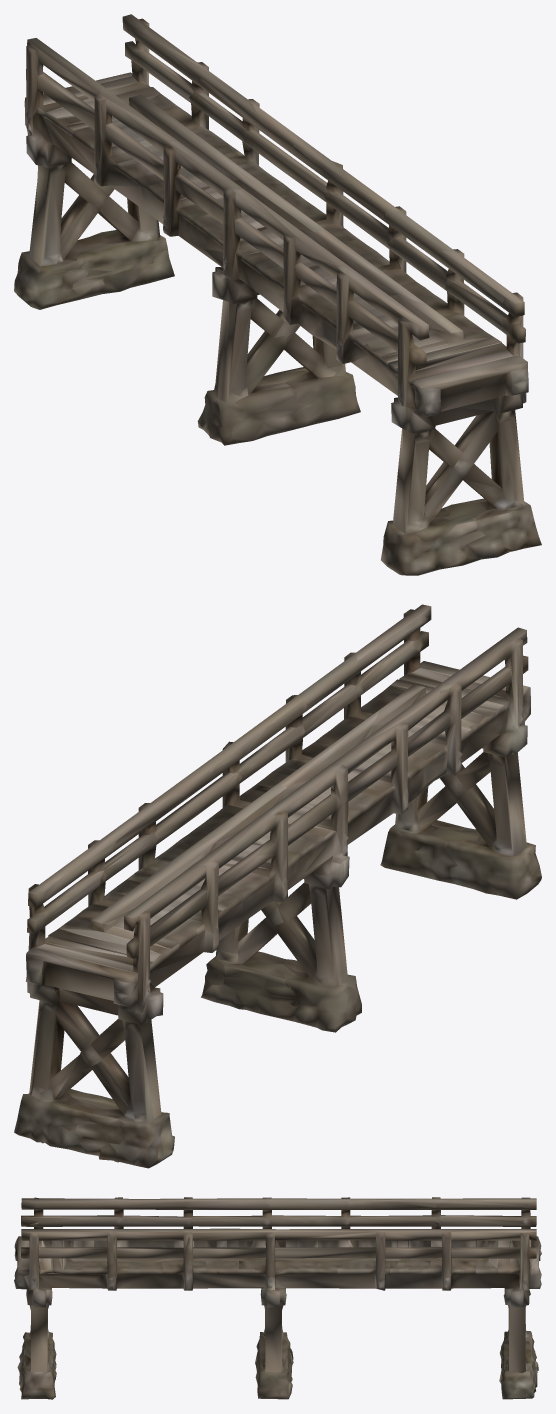
The model's file is bridge_trestle.glb.
The picture shows the model from 3 angles, top to bottom: view 1: azimuth 30°, elevation 25°; view 2: azimuth 150°, elevation 25°; view 3: azimuth 270°, elevation 25°; orthographic projection. The views are drawn at different scales.
Parts seen in each view (by area): view 1: LO.001; view 2: LO.001; view 3: LO.001.
Part boxes in pixels (x1,y1,x2,y2): LO.001: [14, 14, 541, 575]; LO.001: [14, 604, 541, 1168]; LO.001: [14, 1197, 541, 1399].
Bounding box in the file's own units: 2.47 × 4.09 × 11.98.
1 material, 1 textured.
